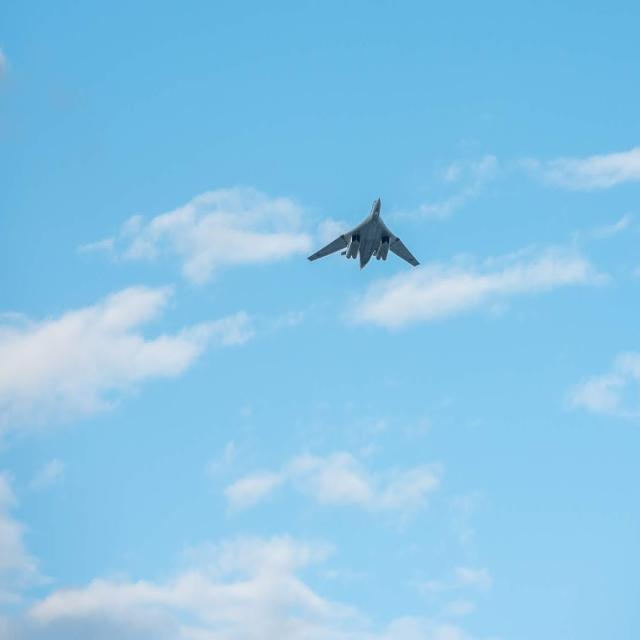MIL_Plane: (307, 197, 420, 270)
